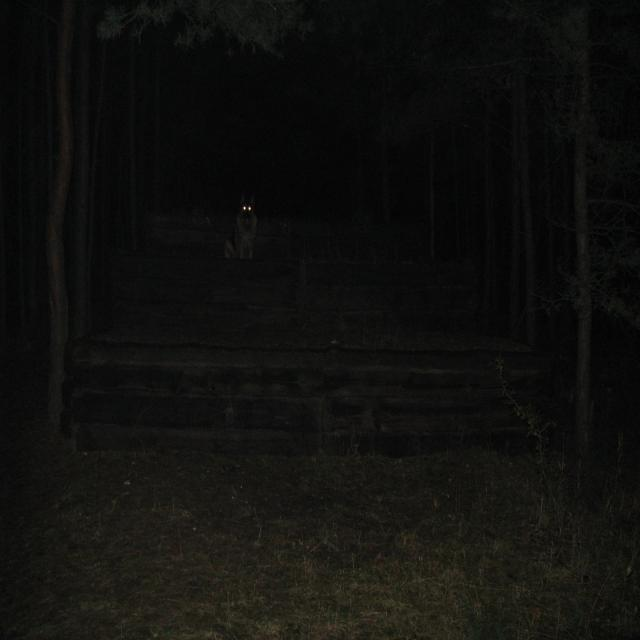Dog: (187, 138, 302, 322)
